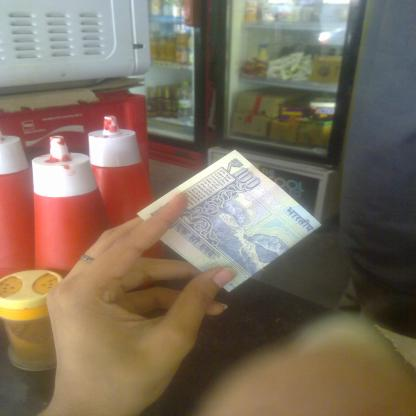Old100Back: (136, 149, 323, 293)
